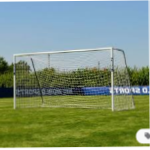goals: (11, 46, 137, 113)
